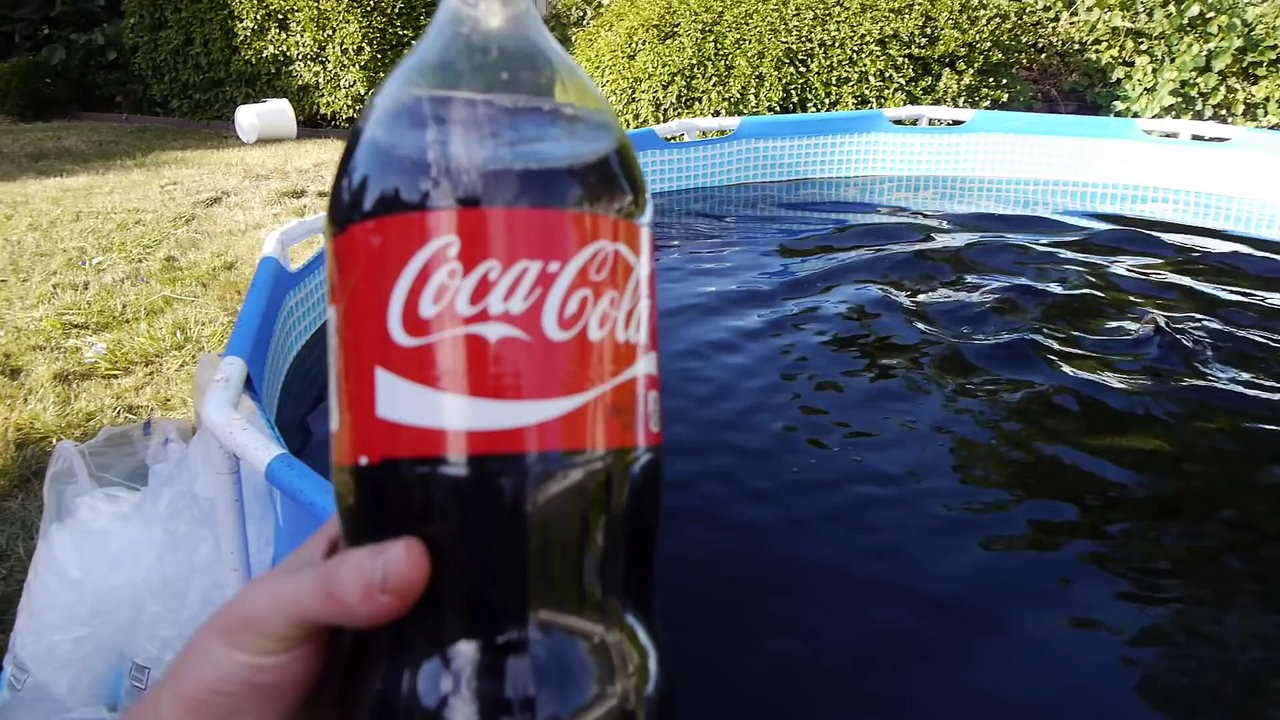coke: (338, 3, 667, 718)
